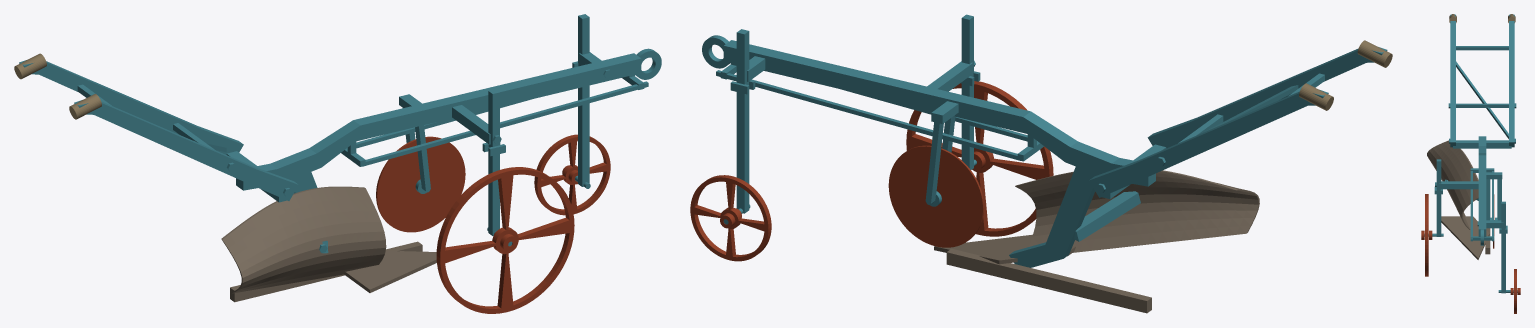
The model's file is NEW455_walking_plough_LOD0.glb.
The picture shows the model from 3 angles, left to right: view 1: azimuth 30°, elevation 25°; view 2: azimuth 150°, elevation 25°; view 3: azimuth 270°, elevation 25°; orthographic projection. The views are drawn at different scales.
Parts seen in each view (by area): view 1: Single curved mouldboard 720mm, Main curved draw beam, Large four spoke wheel, Circular coulter blade, Near curved handle, Far curved handle, Small four spoke wheel, Pointed share 494mm, Lower draught rod near, Small vertical wheel standard, Large vertical wheel standard, Landside sole (+6 smaller); view 2: Single curved mouldboard 720mm, Main curved draw beam, Circular coulter blade, Far curved handle, Landside sole, Large four spoke wheel, Near curved handle, Swept plough standard, Small four spoke wheel, Small vertical wheel standard, Lower draught rod far, Pointed share 494mm (+9 smaller); view 3: Single curved mouldboard 720mm, Pointed share 494mm, Main curved draw beam, Far curved handle, Near curved handle, Small vertical wheel standard, Large vertical wheel standard, Large beam support outrigger, Diagonal handle brace, Large four spoke wheel, Handle cross brace 0, Handle cross brace 1 (+11 smaller).
Boxes of the visible parts, x1,y1,x2,y2 form: Single curved mouldboard 720mm: (221,186,386,293); Main curved draw beam: (236,53,641,190); Large four spoke wheel: (436,167,574,313); Circular coulter blade: (376,136,465,232); Near curved handle: (74,100,298,200); Far curved handle: (19,60,243,154); Small four spoke wheel: (534,134,610,215); Pointed share 494mm: (344,250,436,292); Lower draught rod near: (363,81,648,166); Small vertical wheel standard: (578,14,589,186); Large vertical wheel standard: (488,89,499,235); Landside sole: (230,241,422,302); Single curved mouldboard 720mm: (1015,170,1259,252); Main curved draw beam: (723,40,1155,186); Circular coulter blade: (888,145,984,247); Far curved handle: (1089,89,1328,197); Landside sole: (946,248,1151,313); Large four spoke wheel: (906,81,1053,236); Near curved handle: (1147,47,1387,148); Swept plough standard: (1009,166,1097,267); Small four spoke wheel: (690,175,771,261); Small vertical wheel standard: (736,29,749,213); Lower draught rod far: (716,70,1020,160); Pointed share 494mm: (934,234,1075,264); Single curved mouldboard 720mm: (1427,140,1478,229); Pointed share 494mm: (1441,216,1489,259); Main curved draw beam: (1478,136,1486,236); Far curved handle: (1509,14,1514,147); Near curved handle: (1450,14,1455,147); Small vertical wheel standard: (1501,201,1505,293); Large vertical wheel standard: (1436,159,1441,236); Large beam support outrigger: (1439,181,1478,189); Diagonal handle brace: (1456,61,1508,138); Large four spoke wheel: (1425,194,1428,276); Handle cross brace 0: (1456,103,1508,107); Handle cross brace 1: (1456,46,1508,50).
Bounding box in the file's own units: 2.52 × 1.14 × 0.6595.
